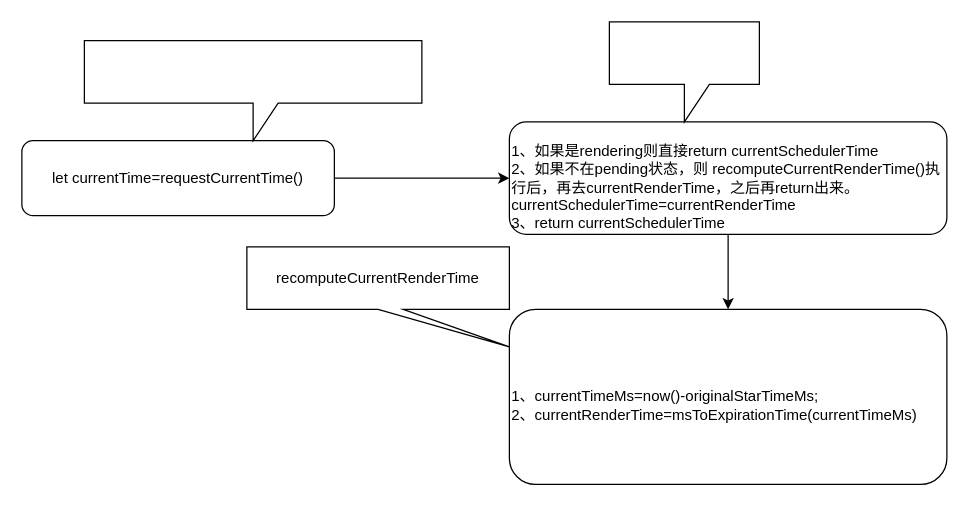
Some shapes in this 969 by 506 pixel diagram are drawn without their labels. The centre of each missing label's shape, as x and y in pixels:
"requestCurrentTime" belongs at pixel 683 71.
"最终得到的是当前时间和js buddle加载完成之后的时间间隔" belongs at pixel 252 90.
